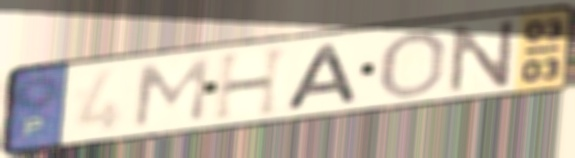4: (71, 64, 129, 136)
A: (280, 40, 363, 113)
H: (210, 43, 294, 124)
M: (129, 55, 213, 130)
N: (446, 16, 520, 97)
O: (376, 29, 449, 101)
